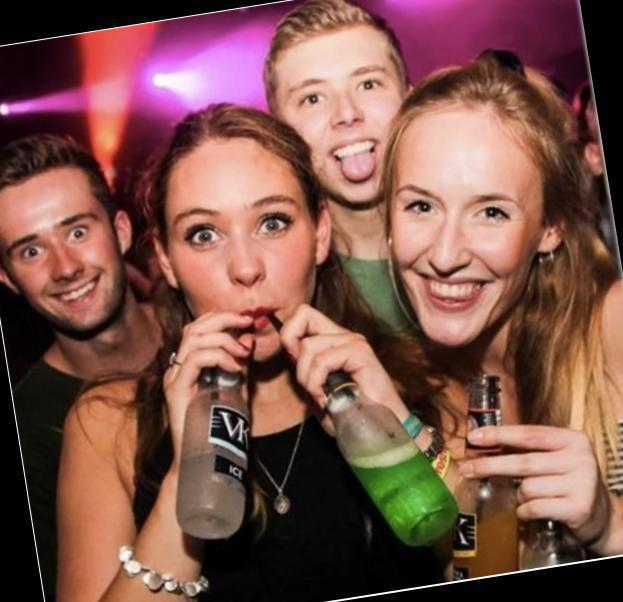Drunk: (397, 117, 533, 341), (169, 150, 303, 354), (278, 39, 406, 198), (0, 174, 119, 327)
